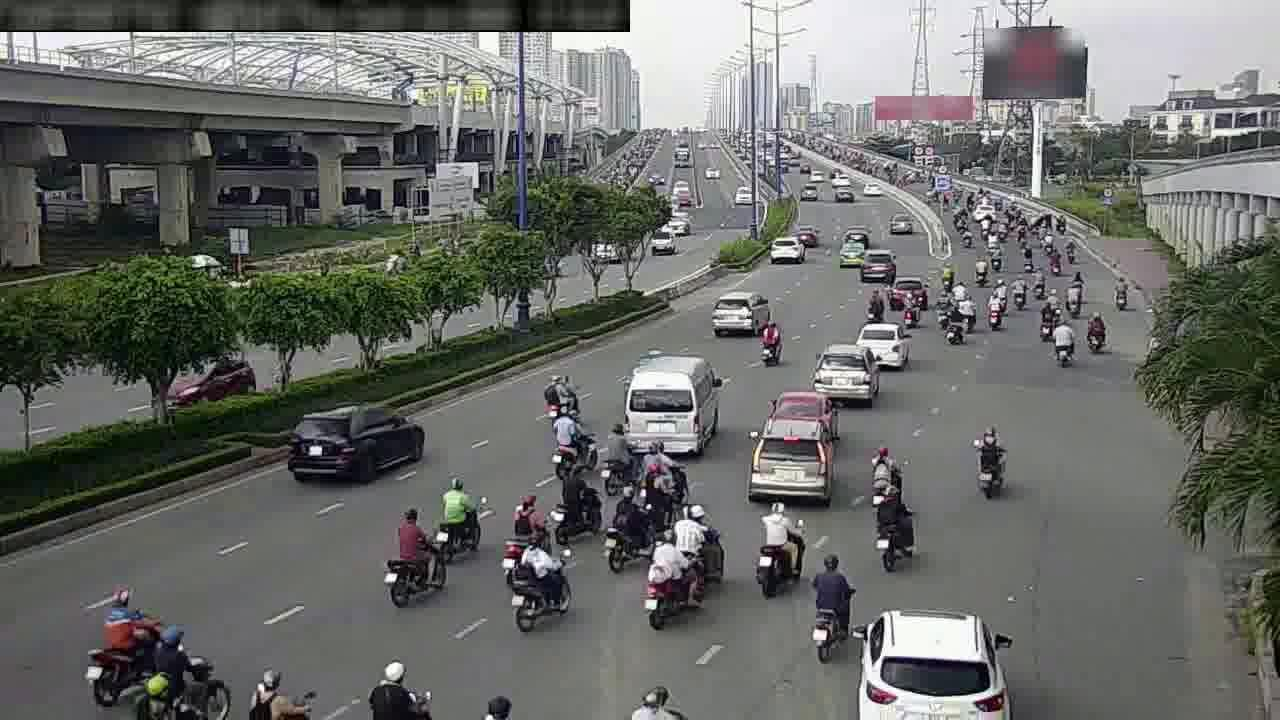14: (626, 360, 716, 459)
container: (854, 608, 1002, 716), (288, 391, 421, 480), (752, 416, 834, 499), (813, 343, 877, 402), (858, 319, 909, 369), (709, 288, 762, 335), (764, 227, 805, 268), (855, 246, 897, 284)
motorbike: (84, 587, 183, 699), (124, 617, 225, 711), (376, 502, 452, 608), (503, 524, 572, 628), (806, 551, 861, 658), (356, 650, 436, 720), (749, 495, 805, 593), (643, 531, 699, 628), (600, 477, 653, 574), (429, 471, 485, 555), (236, 659, 313, 720), (677, 501, 726, 591), (870, 482, 918, 567), (500, 486, 551, 561), (968, 421, 1014, 504), (552, 463, 598, 542), (546, 402, 586, 469), (863, 442, 902, 505), (537, 366, 576, 424), (753, 315, 787, 369), (1048, 317, 1081, 370), (1080, 306, 1112, 358), (1106, 270, 1138, 316), (981, 288, 1009, 334), (1060, 273, 1088, 316), (831, 234, 861, 271), (1005, 271, 1030, 315), (861, 283, 887, 323), (898, 292, 924, 332), (1037, 298, 1059, 345), (955, 283, 978, 326), (946, 319, 967, 351), (941, 255, 957, 296), (934, 298, 951, 336)
